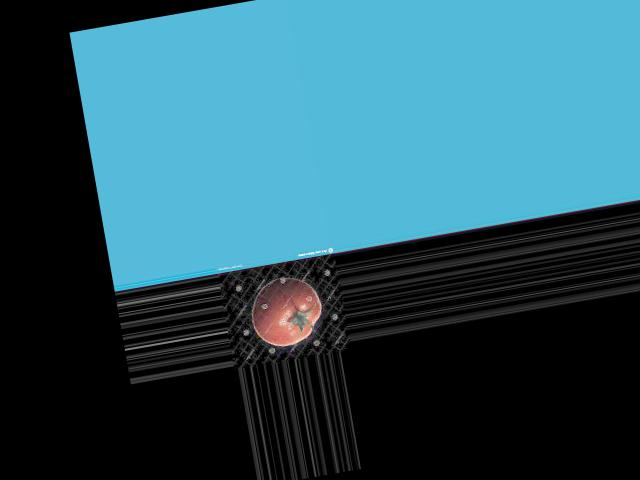tomato: (245, 272, 326, 350)
